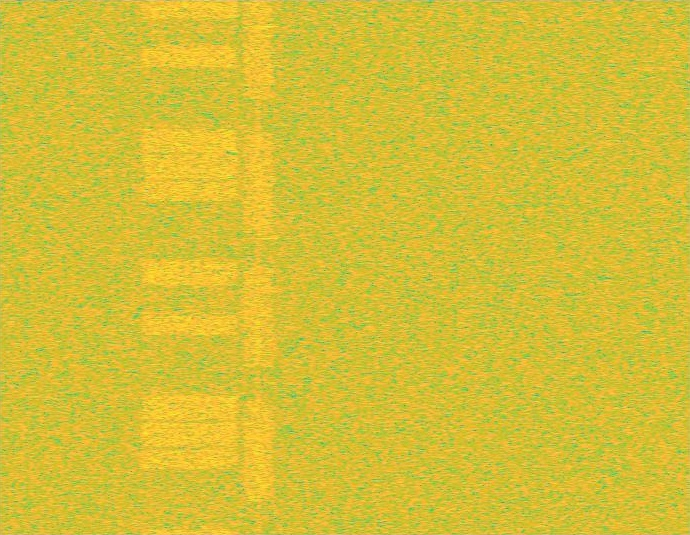5G: (241, 0, 276, 534)
DSSS: (256, 0, 261, 534)
LTE: (138, 0, 241, 534)
Radar: (262, 0, 276, 534)
